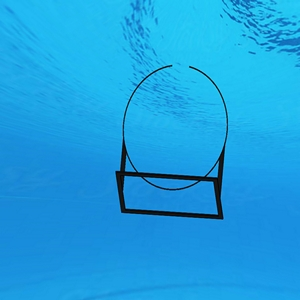circle: (114, 62, 231, 224)
